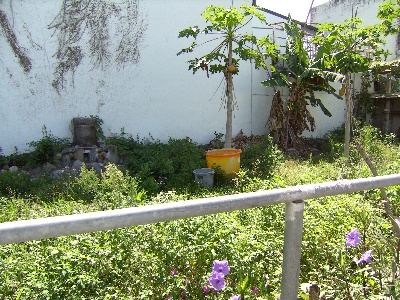bucket: (204, 148, 243, 176), (192, 167, 215, 191)
